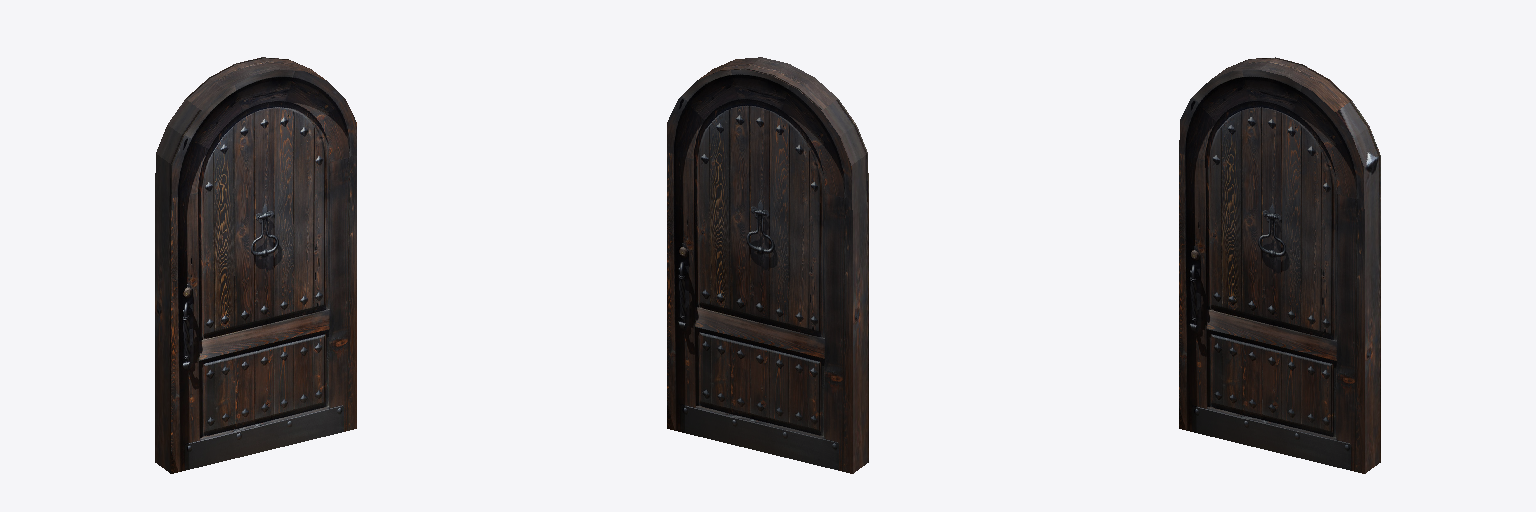
The picture shows the model from 3 angles: view 1: azimuth 30°, elevation 25°; view 2: azimuth 150°, elevation 25°; view 3: azimuth 330°, elevation 25°; orthographic projection.
Parts seen in each view (by area): view 1: Box001; view 2: Box001; view 3: Box001.
Part boxes in pixels (left/top/right/bottom): Box001: left=155, top=57, right=356, bottom=473; Box001: left=667, top=57, right=868, bottom=473; Box001: left=1179, top=57, right=1380, bottom=473.
Bounding box in the file's own units: 0.9898 × 1.93 × 0.1534.
Materials: 1 (1 with a texture image).